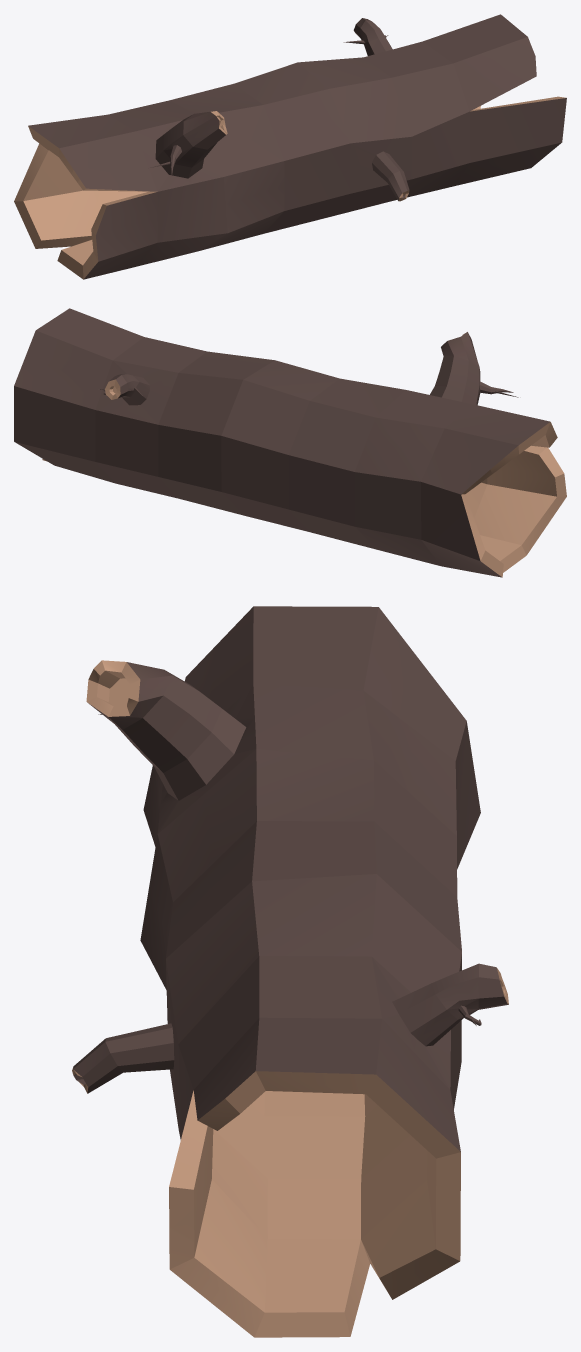
Rendered from Log.fbx.
3 views of the same model, one above another, from view 1: azimuth 30°, elevation 25°; view 2: azimuth 150°, elevation 25°; view 3: azimuth 270°, elevation 25° (orthographic). The views are drawn at different scales.
Visible parts, largest first — view 1: Log; view 2: Log; view 3: Log.
Part boxes in pixels (box(x1,y1,x2,y2)): Log: box(14, 14, 566, 279); Log: box(14, 308, 566, 577); Log: box(72, 606, 508, 1337).
Bounding box in the file's own units: 84.73 × 28.03 × 32.95.
1 material, 1 textured.
